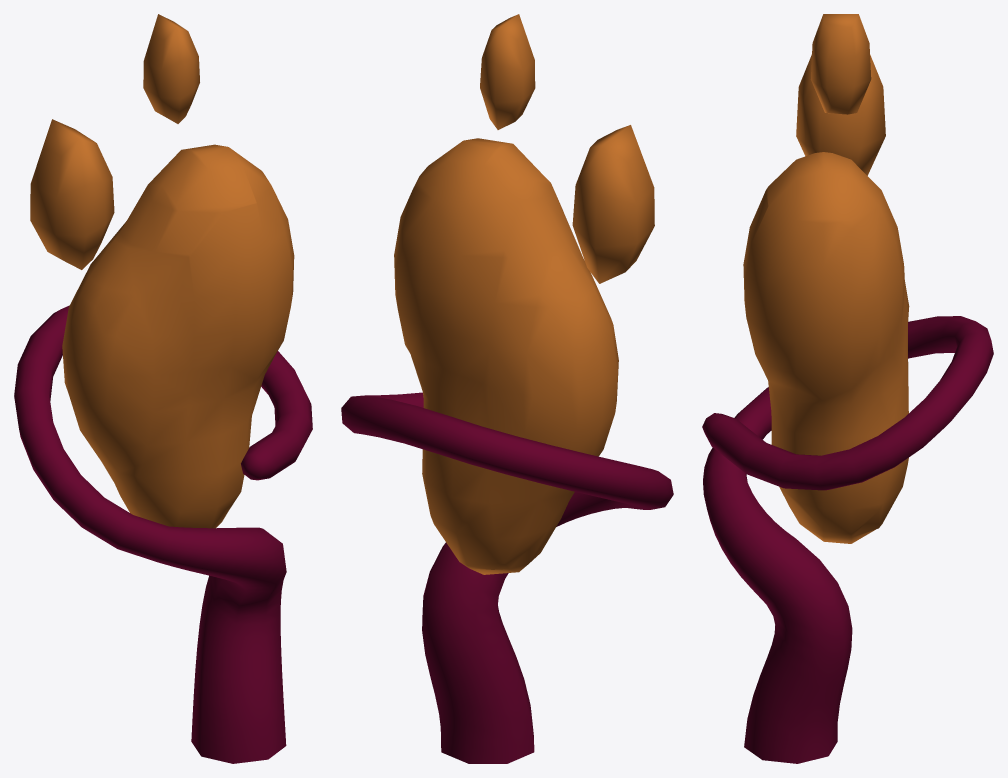
The model's file is Tree Lava 2.glb.
3 views of the same model, side by side, from view 1: azimuth 30°, elevation 25°; view 2: azimuth 150°, elevation 25°; view 3: azimuth 270°, elevation 25° (orthographic). The views are drawn at different scales.
Parts seen in each view (by area): view 1: Tree_Lava_2; view 2: Tree_Lava_2; view 3: Tree_Lava_2.
Part boxes in pixels (x1,y1,x2,y2): Tree_Lava_2: (14, 14, 312, 763); Tree_Lava_2: (341, 14, 673, 763); Tree_Lava_2: (702, 14, 993, 763).
Bounding box in the file's own units: 1.23 × 3.08 × 1.15.
1 material, 1 textured.
